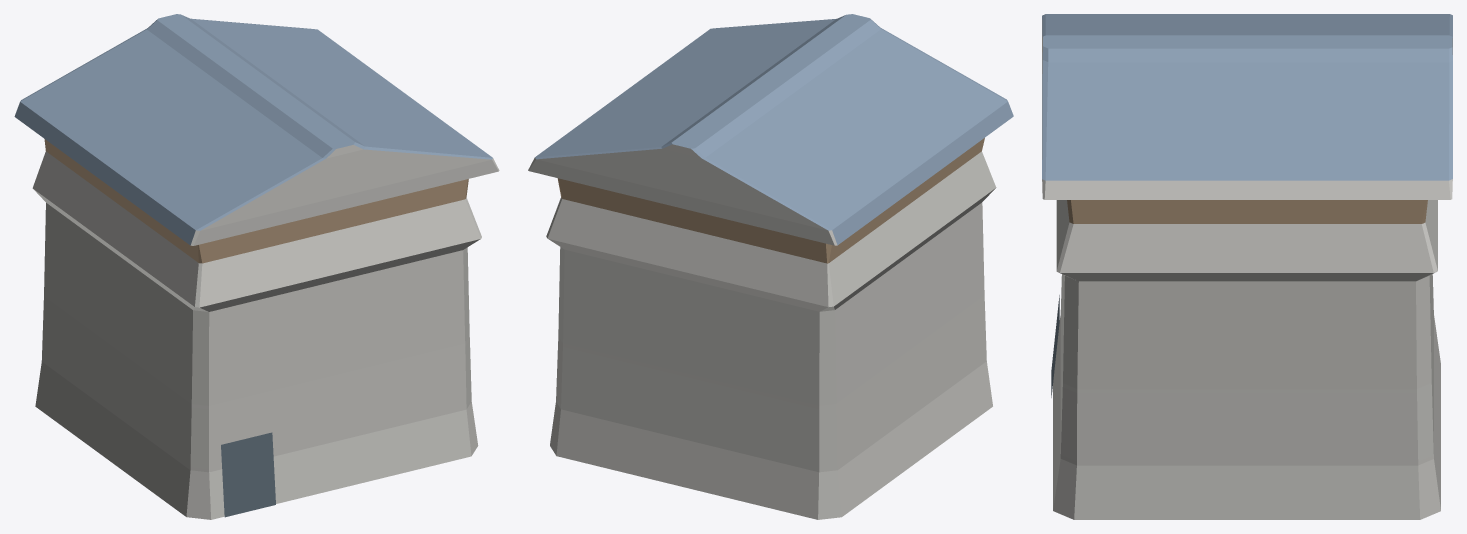
Rendered from loin.glb.
3 renders of one model, left to right at view 1: azimuth 30°, elevation 25°; view 2: azimuth 150°, elevation 25°; view 3: azimuth 270°, elevation 25°, orthographic. The views are drawn at different scales.
Parts seen in each view (by area): view 1: loin; view 2: loin; view 3: loin.
Part boxes in pixels (x1=…): loin: x1=14, y1=14, x2=499, y2=519; loin: x1=528, y1=14, x2=1013, y2=519; loin: x1=1042, y1=14, x2=1452, y2=519.
Bounding box in the file's own units: 0.8555 × 0.9126 × 0.8577.
